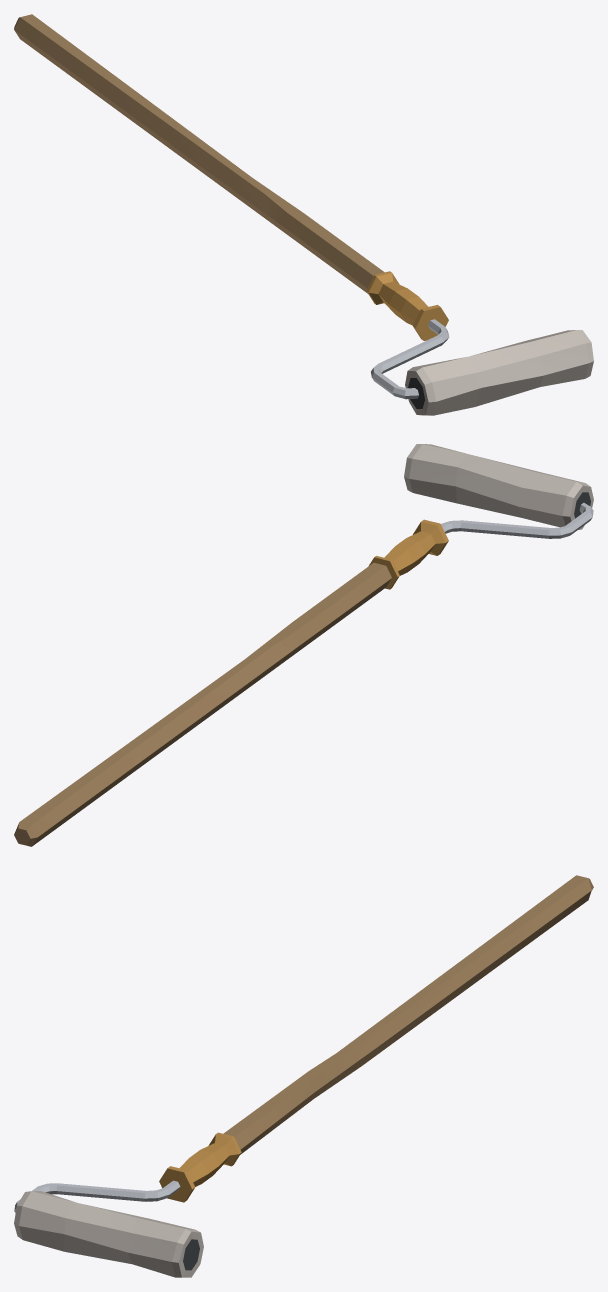
Rendered from SM_Item_Paint_Roller_02.fbx.
3 views of the same model, one above another, from view 1: azimuth 30°, elevation 25°; view 2: azimuth 150°, elevation 25°; view 3: azimuth 330°, elevation 25° (orthographic).
Visible parts, largest first — view 1: SM_Item_Paint_Roller_02, SM_Item_Paint_Roller_02_Brush; view 2: SM_Item_Paint_Roller_02, SM_Item_Paint_Roller_02_Brush; view 3: SM_Item_Paint_Roller_02, SM_Item_Paint_Roller_02_Brush.
Boxes of the visible parts, box(x1,y1,x2,y2) form: SM_Item_Paint_Roller_02: box(14, 14, 449, 399); SM_Item_Paint_Roller_02_Brush: box(405, 330, 593, 415); SM_Item_Paint_Roller_02: box(14, 502, 593, 846); SM_Item_Paint_Roller_02_Brush: box(404, 444, 593, 529); SM_Item_Paint_Roller_02: box(14, 875, 593, 1212); SM_Item_Paint_Roller_02_Brush: box(14, 1191, 203, 1277).
Size of the model in its own units: 39.92 by 10.22 by 184.
